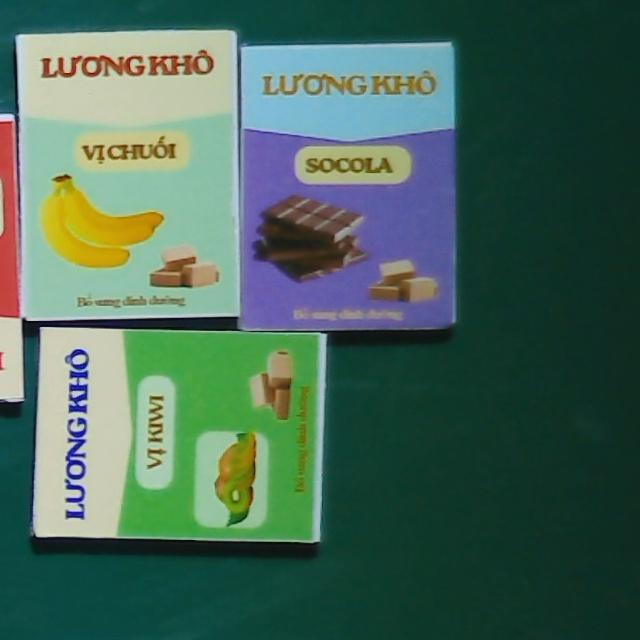chuoi: (17, 28, 240, 318)
kiwi: (32, 328, 326, 542)
socola: (241, 42, 456, 330)
